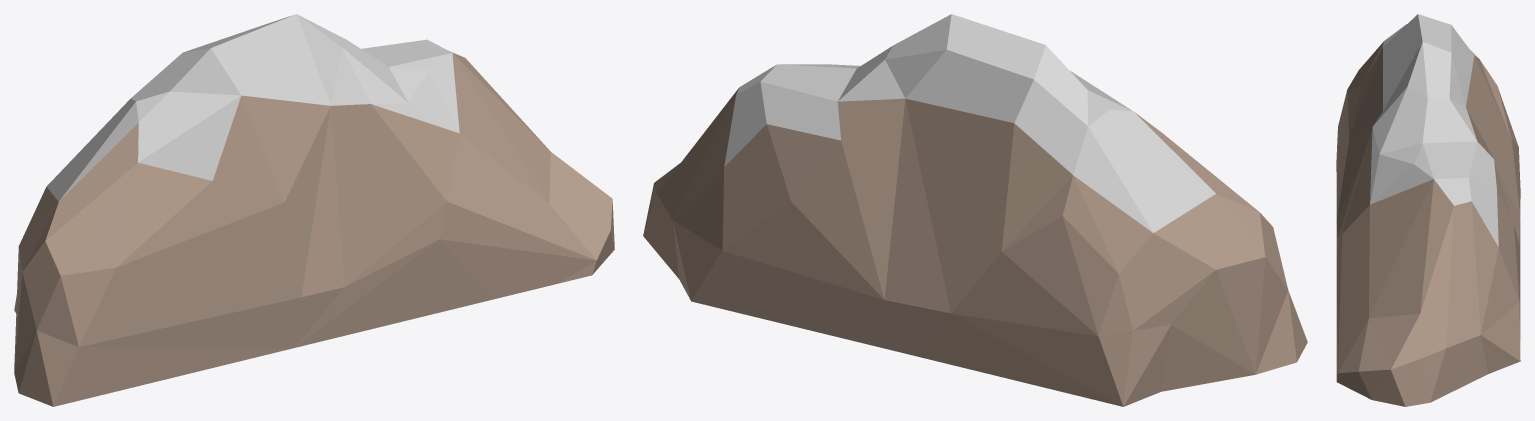
The model's file is mountain2.fbx.
3 views of the same model, side by side, from view 1: azimuth 30°, elevation 25°; view 2: azimuth 150°, elevation 25°; view 3: azimuth 270°, elevation 25° (orthographic). The views are drawn at different scales.
Visible parts, largest first — view 1: Plane.001; view 2: Plane.001; view 3: Plane.001.
Boxes of the visible parts, x1,y1,x2,y2 form: Plane.001: [14, 14, 614, 406]; Plane.001: [643, 14, 1307, 406]; Plane.001: [1336, 14, 1520, 406].
Bounding box in the file's own units: 6492 × 2880 × 2004.
